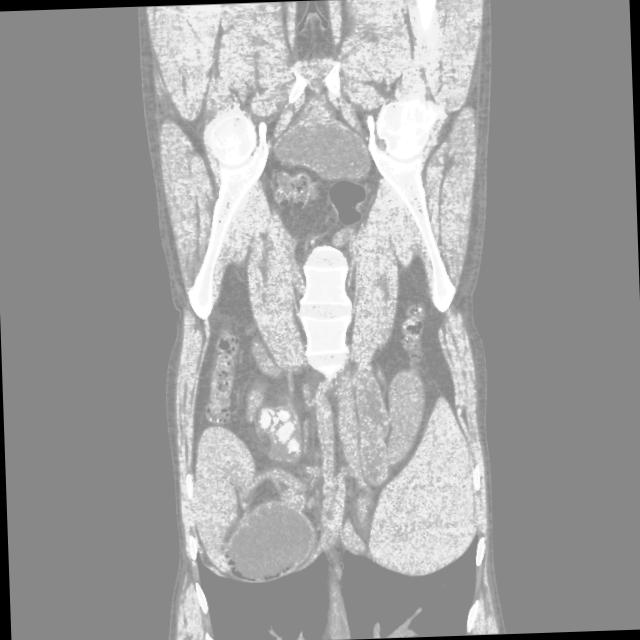STONE: (110, 152, 533, 462)
